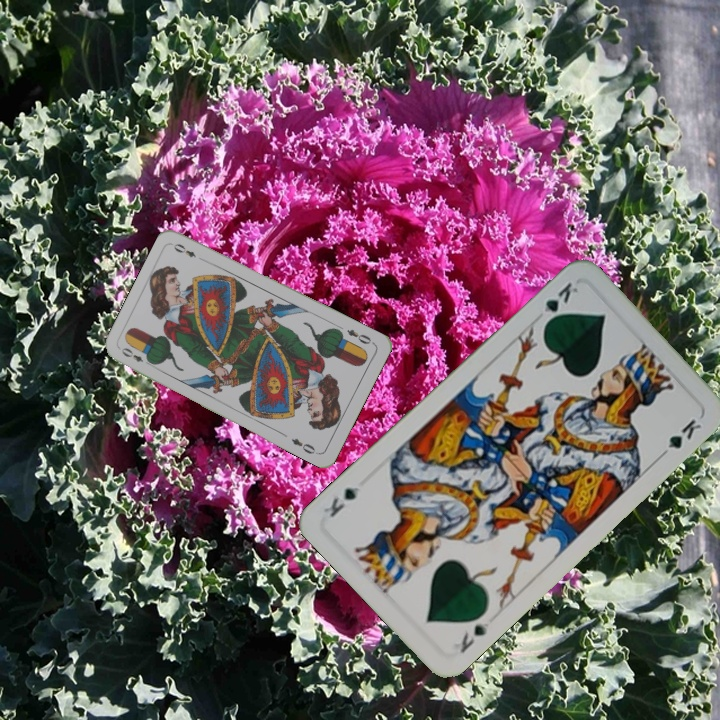EO: (117, 343, 155, 369), (343, 325, 377, 347)
GK: (538, 278, 582, 329), (456, 618, 492, 656)
